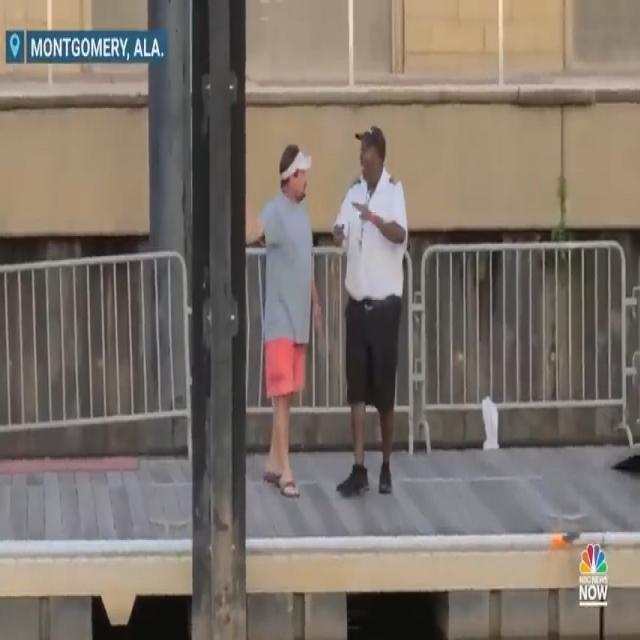non-fight: (246, 116, 409, 515)
